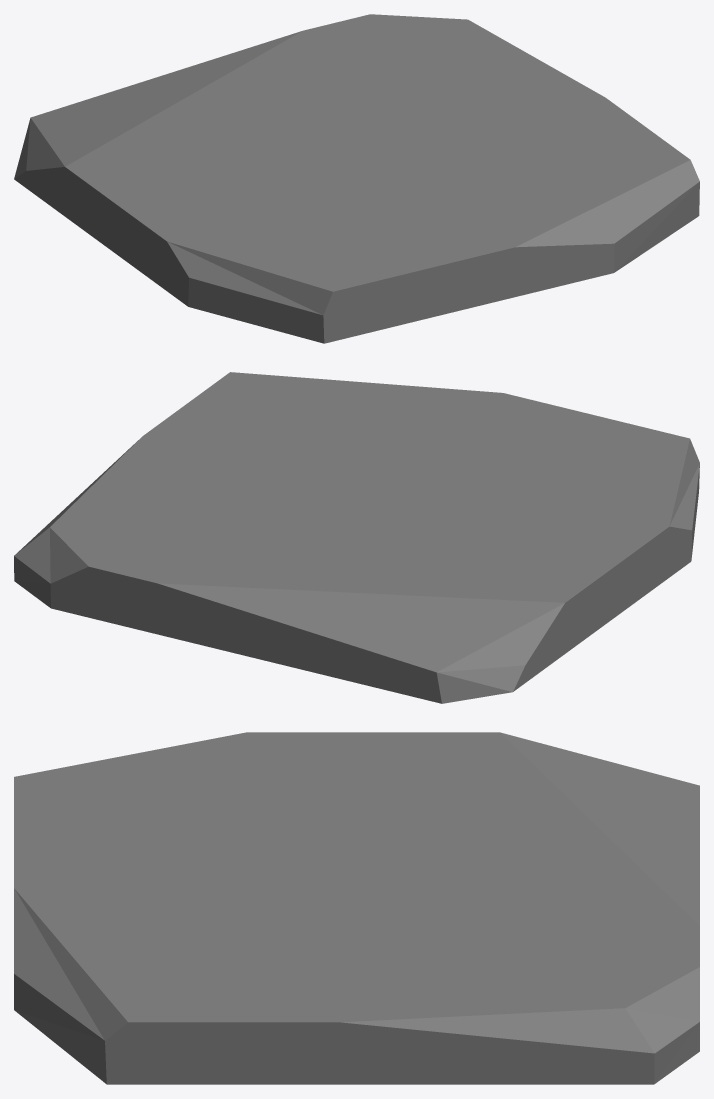
The model's file is Tile_02.FBX.
3 renders of one model, top to bottom at view 1: azimuth 30°, elevation 25°; view 2: azimuth 150°, elevation 25°; view 3: azimuth 270°, elevation 25°, orthographic. The views are drawn at different scales.
Visible parts, largest first — view 1: Tile_02; view 2: Tile_02; view 3: Tile_02.
Part boxes in pixels (x1,y1,x2,y2): Tile_02: (14,14,699,343); Tile_02: (14,372,699,703); Tile_02: (14,732,699,1084).
Bounding box in the file's own units: 1.5 × 0.15 × 1.5.
